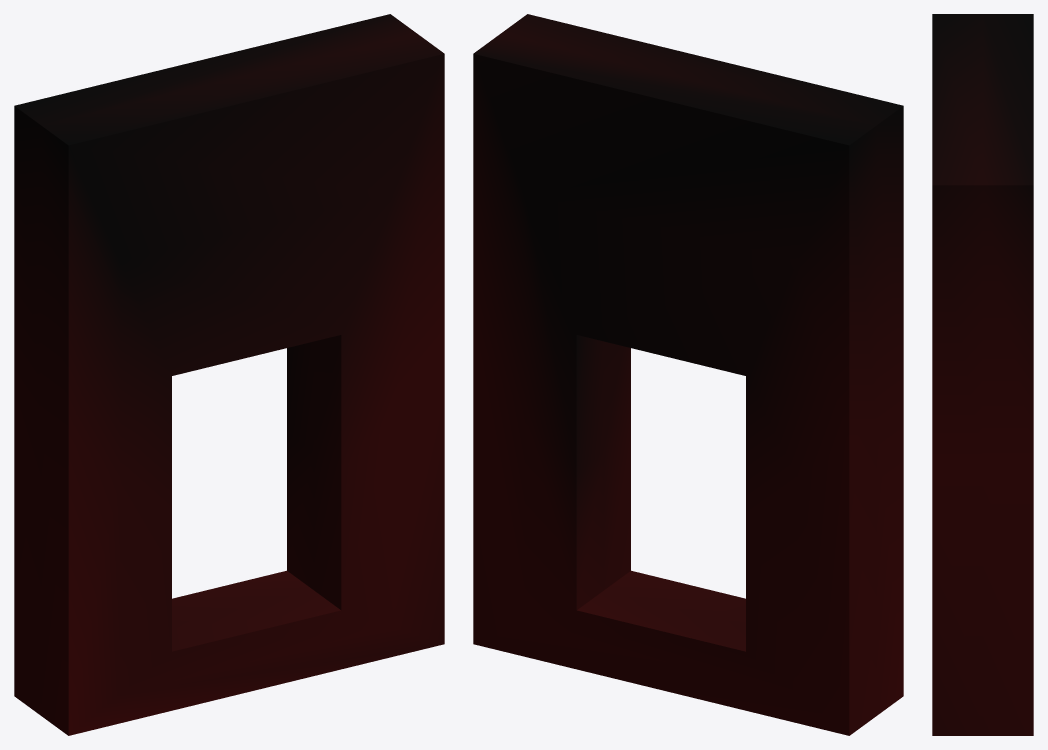
File: doorway_stone.obj
3 views of the same model, side by side, from view 1: azimuth 30°, elevation 25°; view 2: azimuth 150°, elevation 25°; view 3: azimuth 270°, elevation 25° (orthographic). The views are drawn at different scales.
Visible parts, largest first — view 1: Cube; view 2: Cube; view 3: Cube.
Part boxes in pixels (box(x1,y1,x2,y2)): Cube: box(14, 14, 444, 735); Cube: box(473, 14, 903, 735); Cube: box(932, 14, 1033, 735).
Size of the model in its own units: 4 by 6 by 1.
